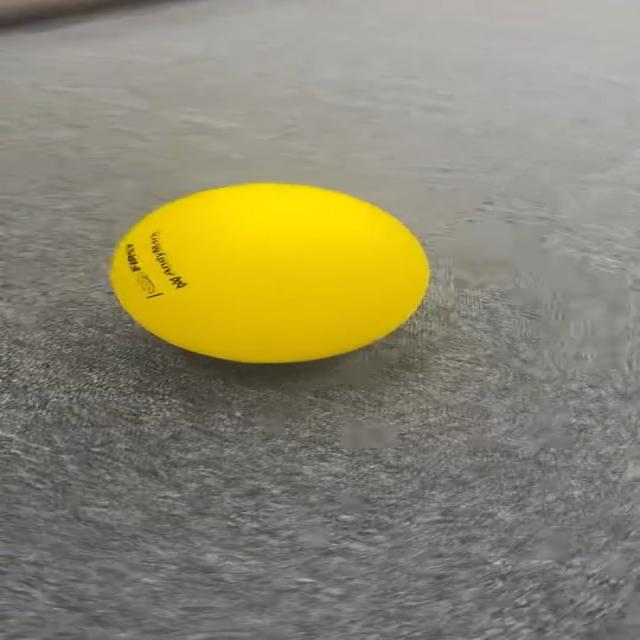Fuels: (111, 184, 424, 360)
